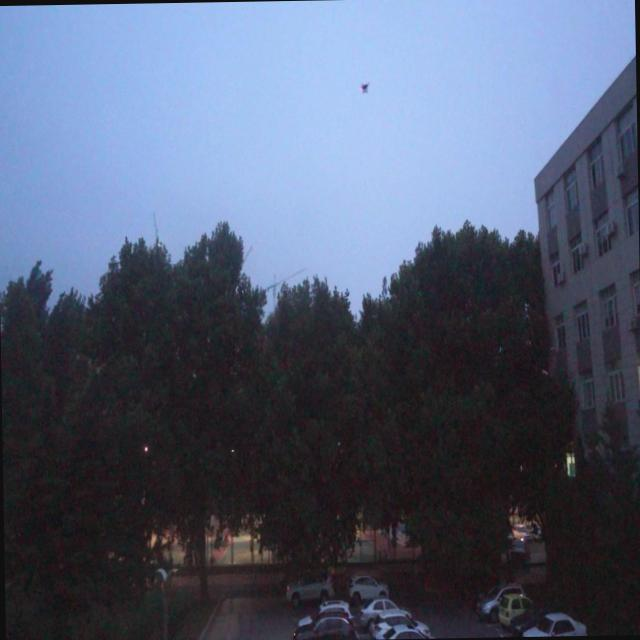drone: (358, 77, 372, 96)
